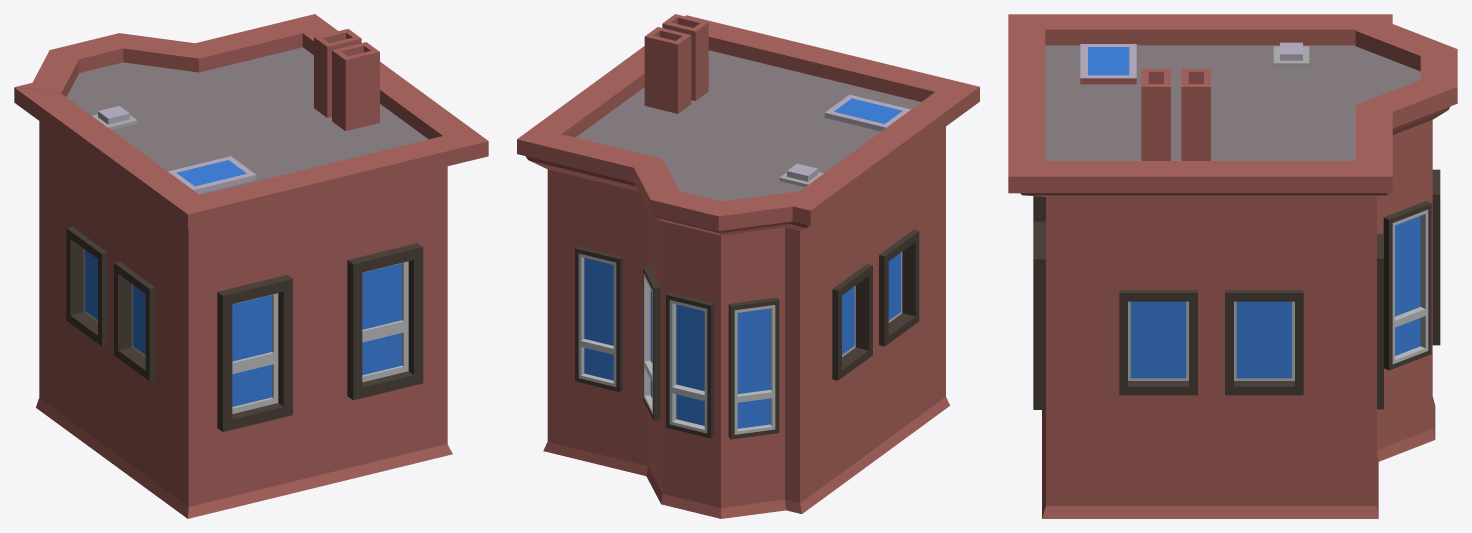
Rendered from building_1x1_3_r.glb.
3 renders of one model, left to right at view 1: azimuth 30°, elevation 25°; view 2: azimuth 150°, elevation 25°; view 3: azimuth 270°, elevation 25°, orthographic. The views are drawn at different scales.
Parts seen in each view (by area): view 1: ThirdFloor; view 2: ThirdFloor; view 3: ThirdFloor.
Part boxes in pixels (x1=…): ThirdFloor: x1=14, y1=14, x2=488, y2=518; ThirdFloor: x1=517, y1=14, x2=979, y2=518; ThirdFloor: x1=1008, y1=14, x2=1457, y2=518.
Size of the model in its own units: 1.58 by 1.89 by 1.85.
